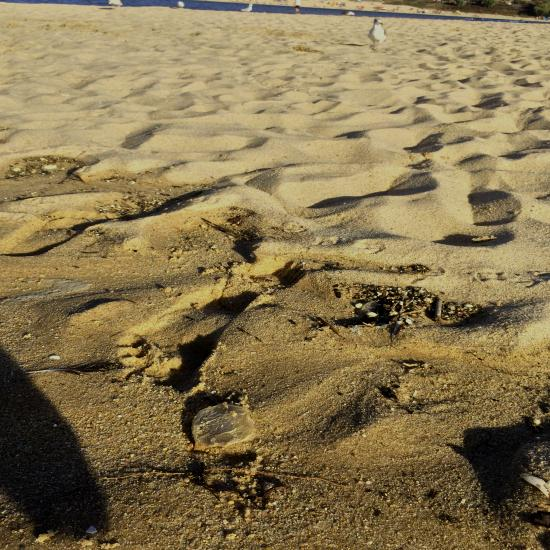Plastic film: (191, 403, 254, 451), (355, 302, 382, 320)
